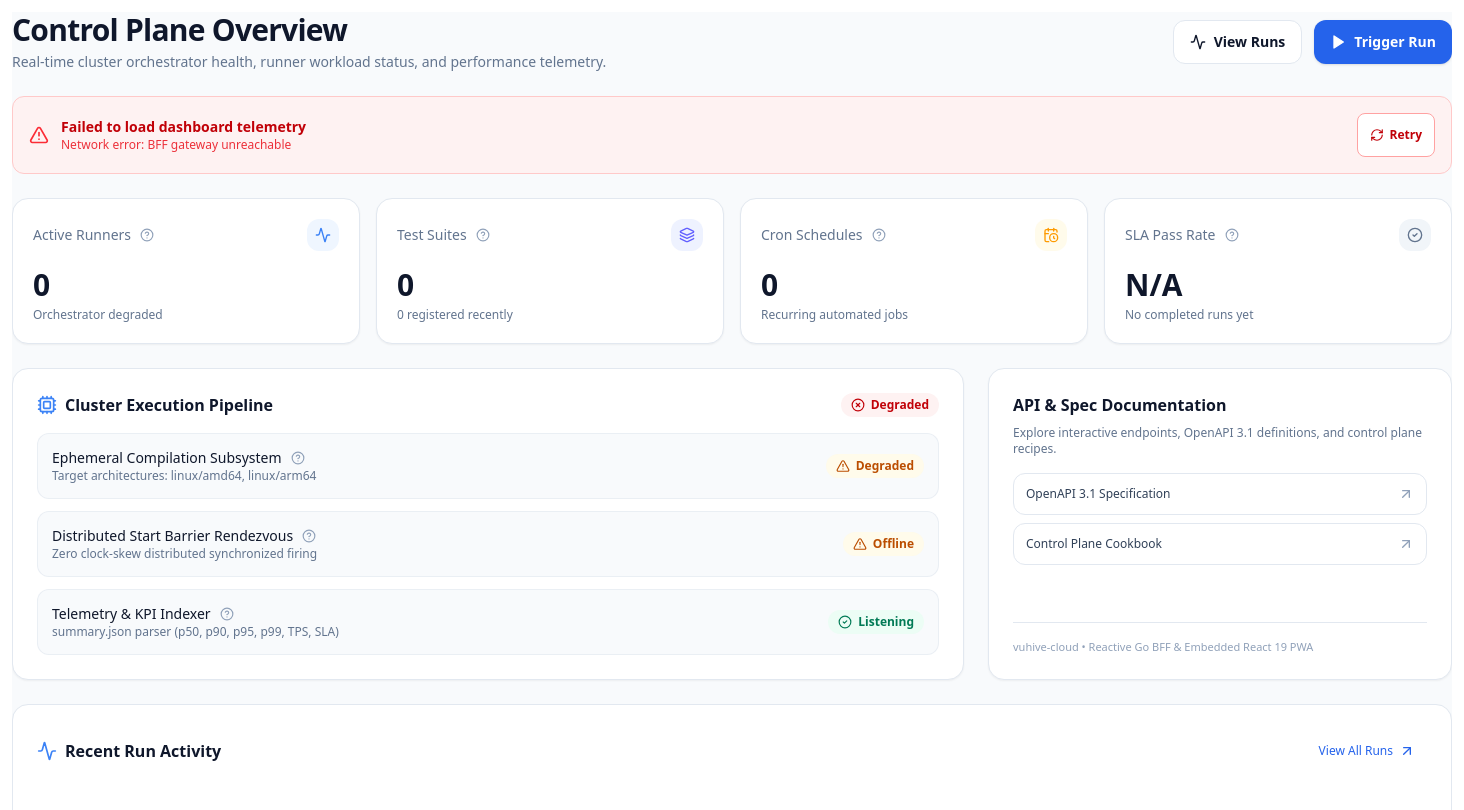
Test: DashboardView Component › renders error banner with retry button on API failure
Expected: the text "Failed to load dashboard telemetry" is shown, left=61, top=117, right=306, bottom=137
Click the button "Retry".
click(1396, 135)  # box left=1356, top=113, right=1435, bottom=157
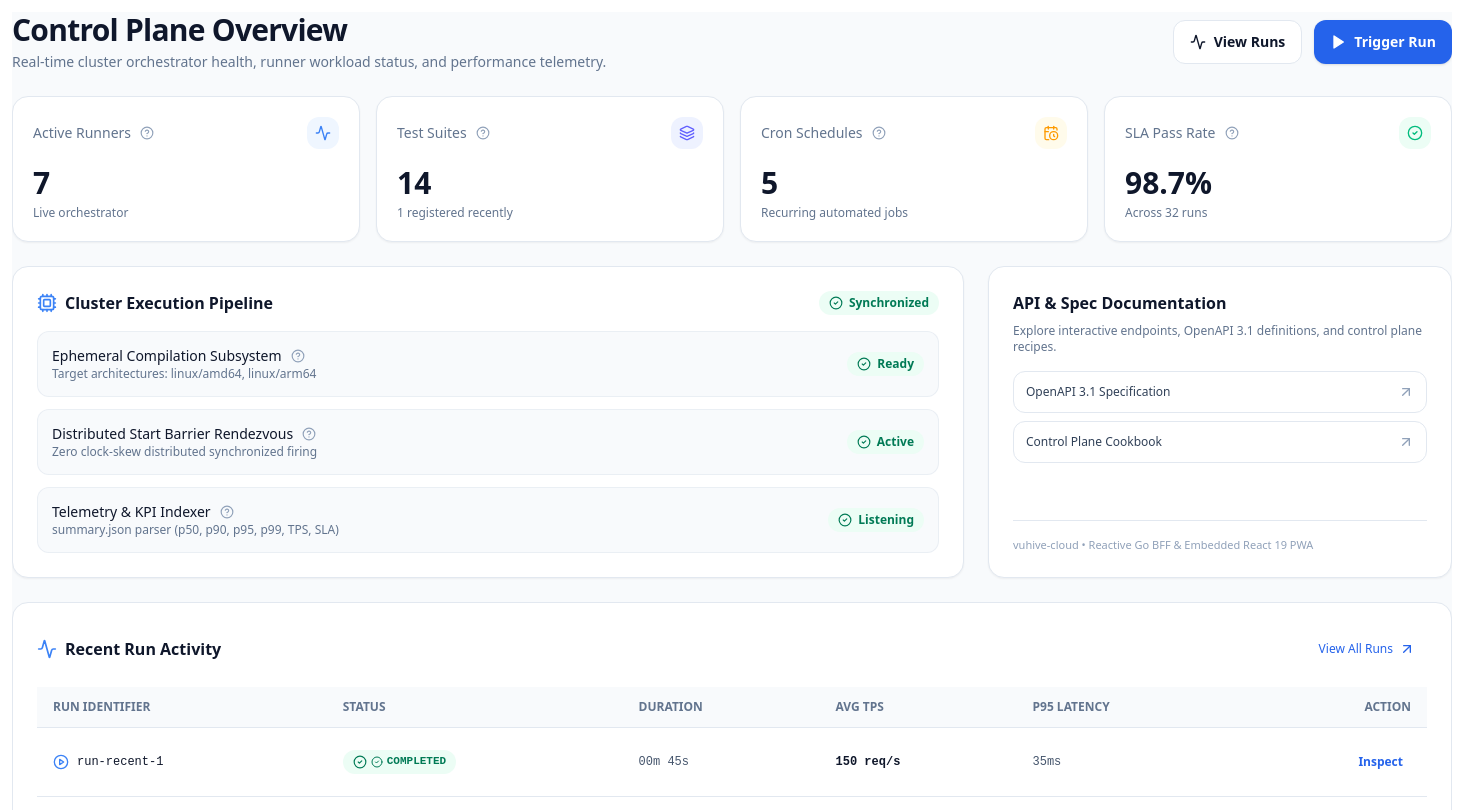
Expected: the text "98.7%" is shown, left=1125, top=162, right=1212, bottom=203
